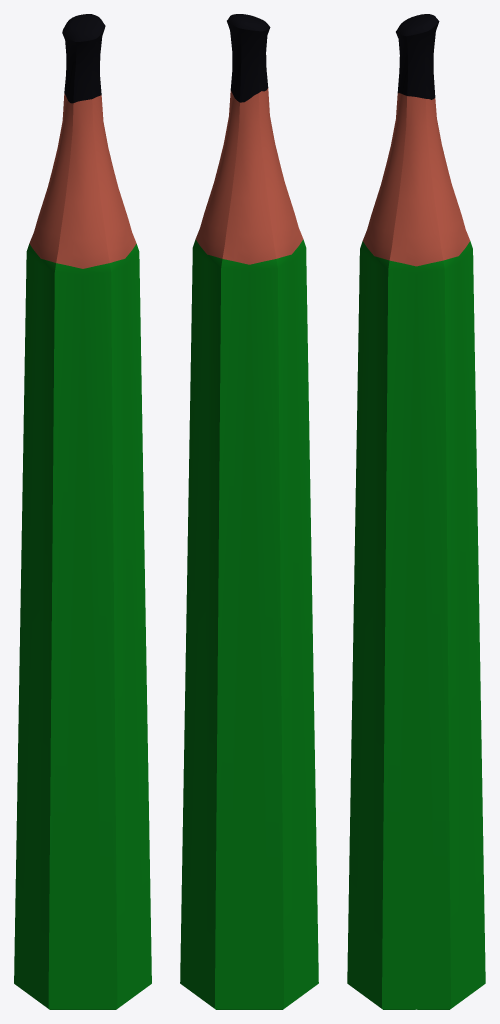
The model's file is Pencil_Medium.FBX.
3 renders of one model, left to right at view 1: azimuth 30°, elevation 25°; view 2: azimuth 210°, elevation 25°; view 3: azimuth 330°, elevation 25°, orthographic.
Parts seen in each view (by area): view 1: Cylinder006; view 2: Cylinder006; view 3: Cylinder006.
Part boxes in pixels (box(x1,y1,x2,y2)): Cylinder006: box(14, 14, 151, 1009); Cylinder006: box(180, 14, 318, 1009); Cylinder006: box(347, 14, 485, 1009).
Size of the model in its own units: 31.14 by 278 by 35.95.
